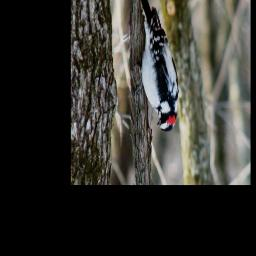Woodpecker: (135, 0, 181, 131)
